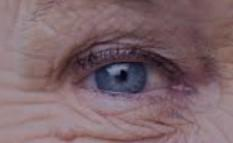eye: (97, 62, 148, 94)
